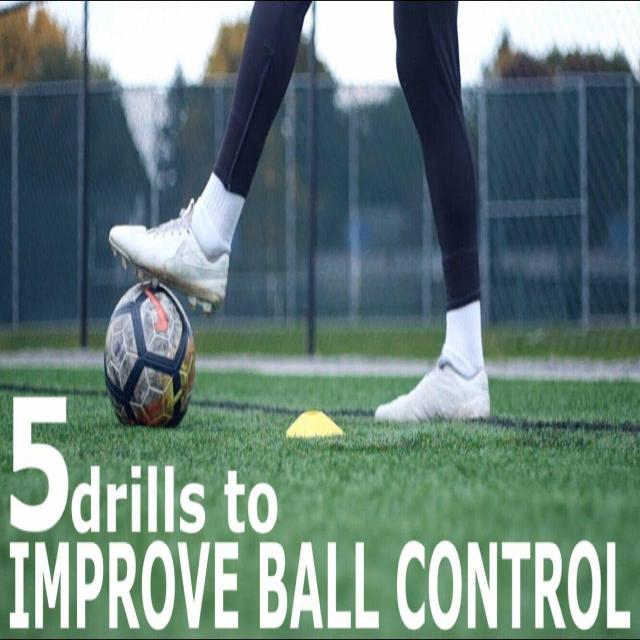ball: (100, 272, 202, 431)
